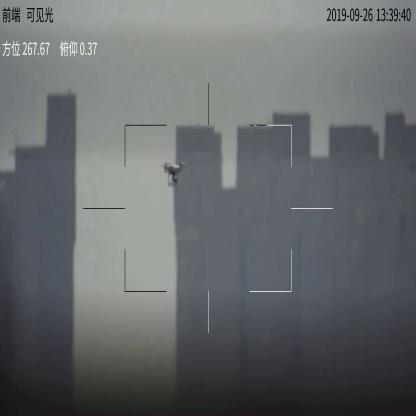uav: (160, 160, 184, 186)
